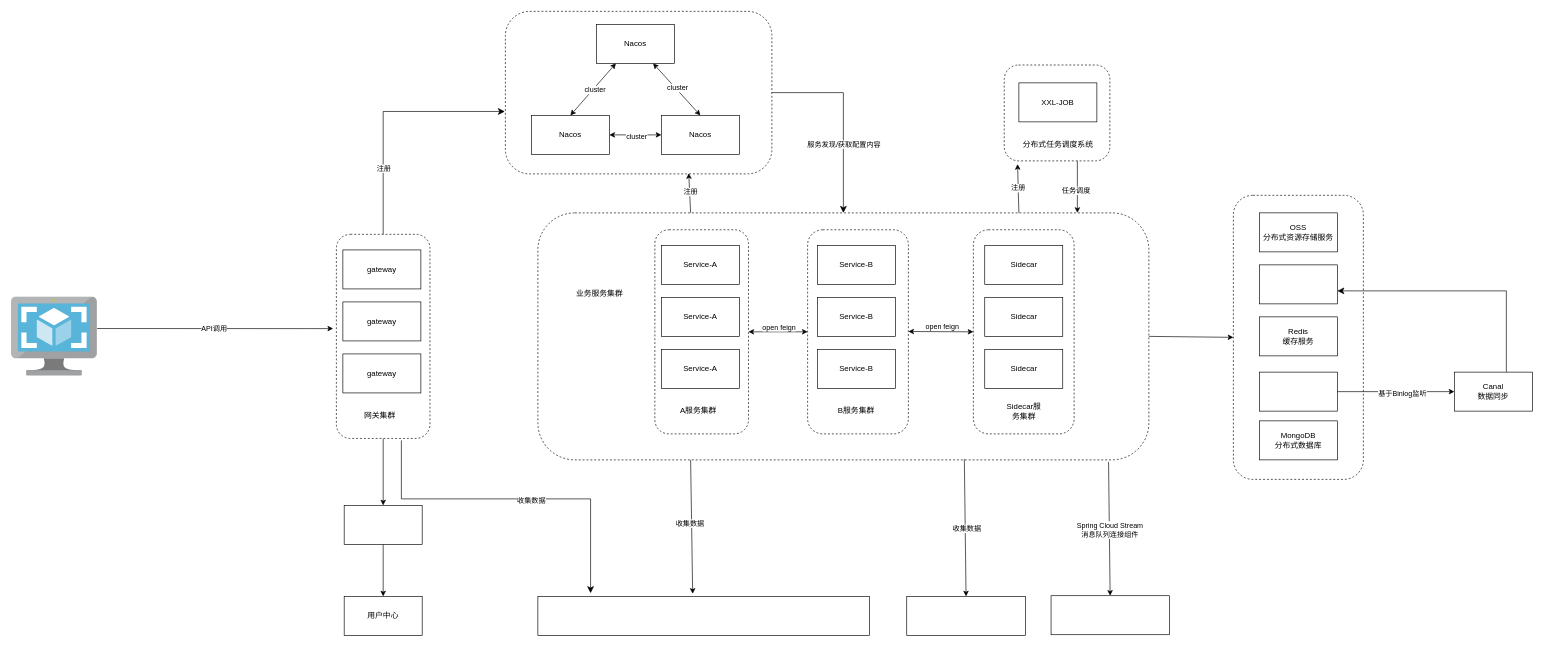
Image size: 1544x647. Some labels were removed from this diagram. Here are the shapes that lost their labels. From the top down, the box of each, then its label:
(1259, 264, 1337, 304): ElasticSearch 数据检索服务
(1259, 371, 1337, 411): PolarDB 分布式数据库
(344, 505, 422, 544): 认证服务
(537, 596, 869, 635): SkyWalking/OpenTelemetry 链路监控服务中心
(906, 596, 1025, 635): ELK 日志聚合系统
(1050, 595, 1170, 635): 消息队列中间件
